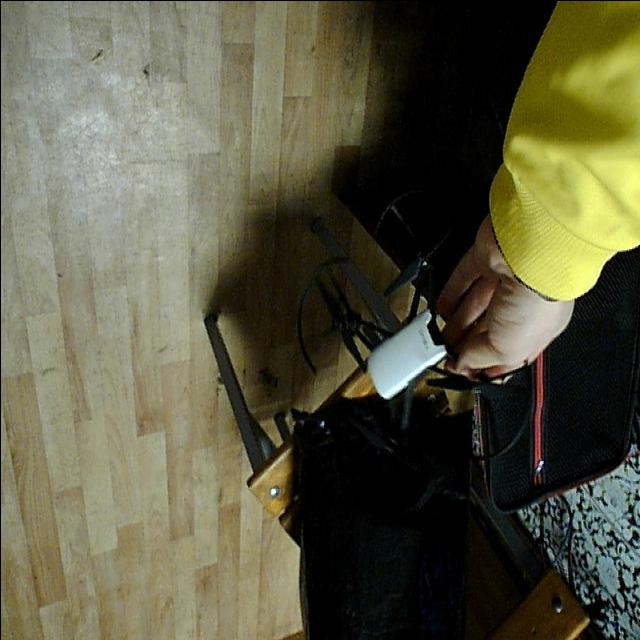drone: (283, 204, 531, 480)
